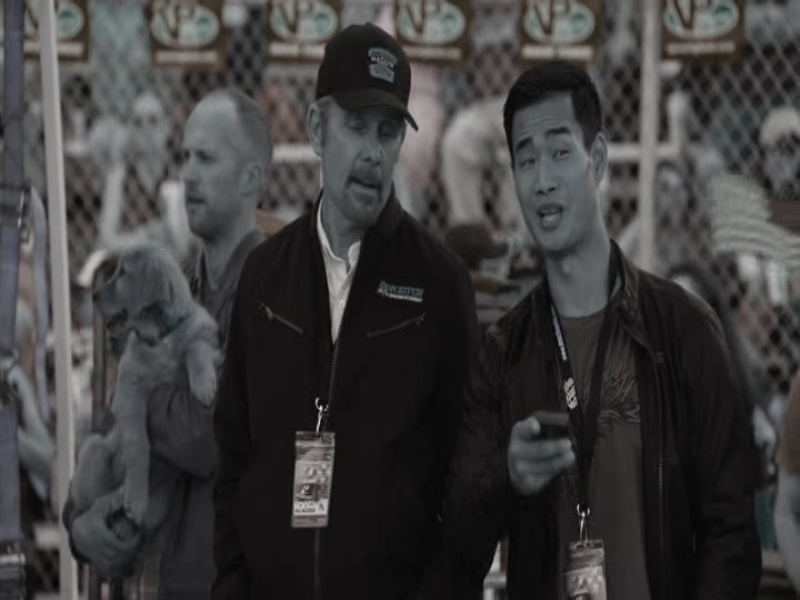TsisyArotava: (497, 75, 607, 275), (305, 41, 412, 228)
